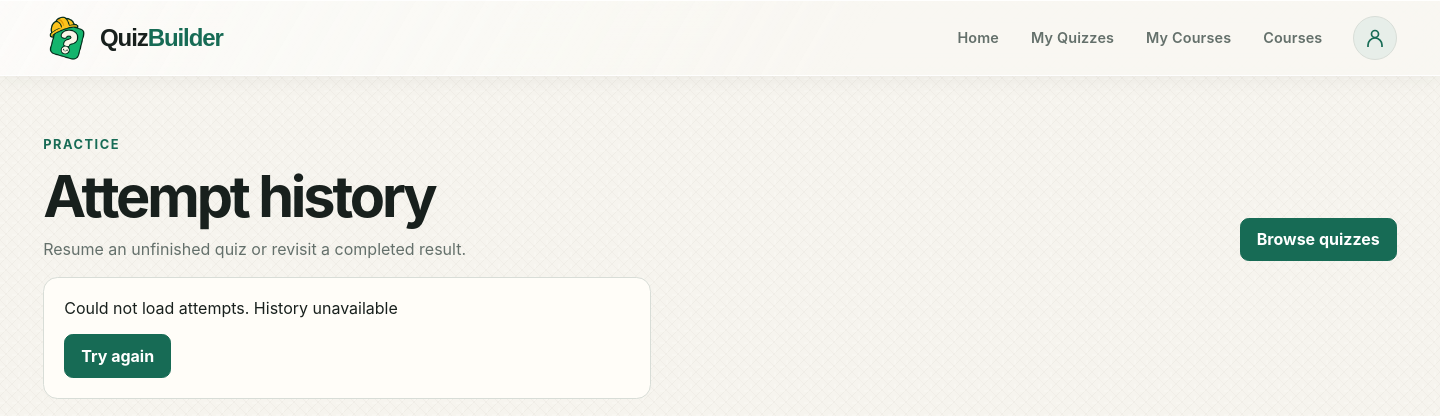
it: retries failed history loading and shows its empty state
Expected: the message shows "Could not load attempts. History unavailable", [43,277,651,399]
Click the button "Try again": (118,356) [64,334,171,378]
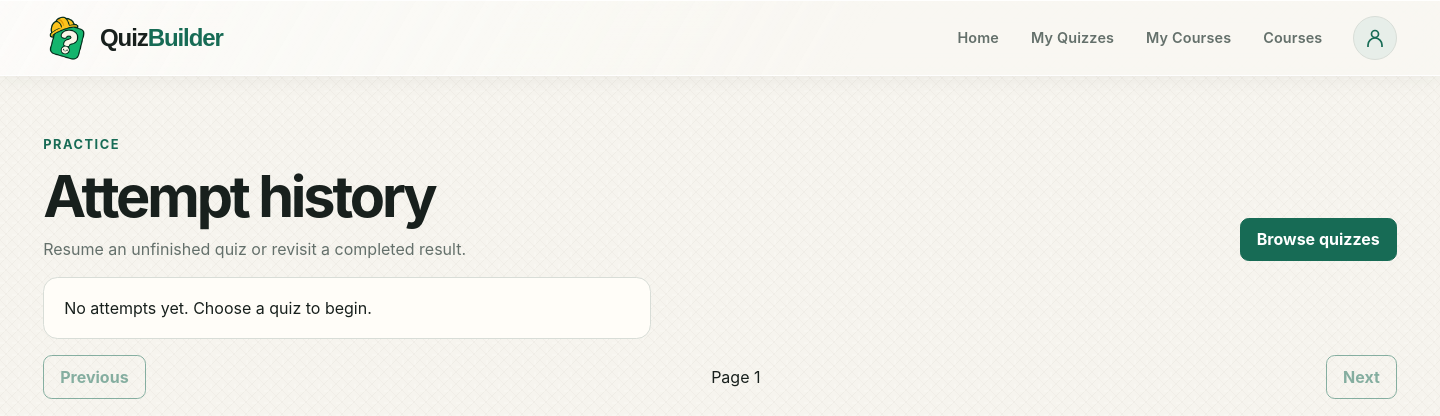
Expected: the text "No attempts yet. Choose a quiz to begin." is shown, [64,298,372,318]
